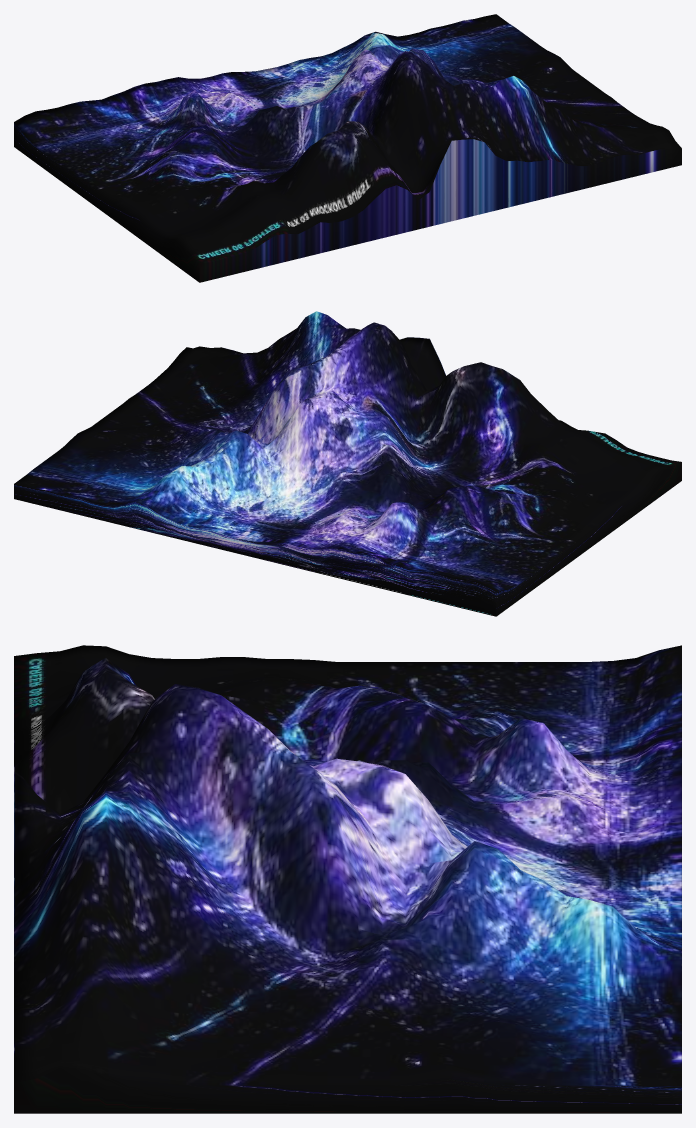
Rendered from CAREER_06_VFX_03_Knockout.glb.
3 views of the same model, one above another, from view 1: azimuth 30°, elevation 25°; view 2: azimuth 150°, elevation 25°; view 3: azimuth 270°, elevation 25° (orthographic). The views are drawn at different scales.
Parts seen in each view (by area): view 1: CAREER_06_VFX_03_Knockout; view 2: CAREER_06_VFX_03_Knockout; view 3: CAREER_06_VFX_03_Knockout.
Part boxes in pixels (x1=…): CAREER_06_VFX_03_Knockout: x1=14, y1=14, x2=681, y2=282; CAREER_06_VFX_03_Knockout: x1=14, y1=311, x2=681, y2=616; CAREER_06_VFX_03_Knockout: x1=14, y1=645, x2=681, y2=1113.
Size of the model in its own units: 2 by 0.51 by 1.33.
Materials: 1 (1 with a texture image).
